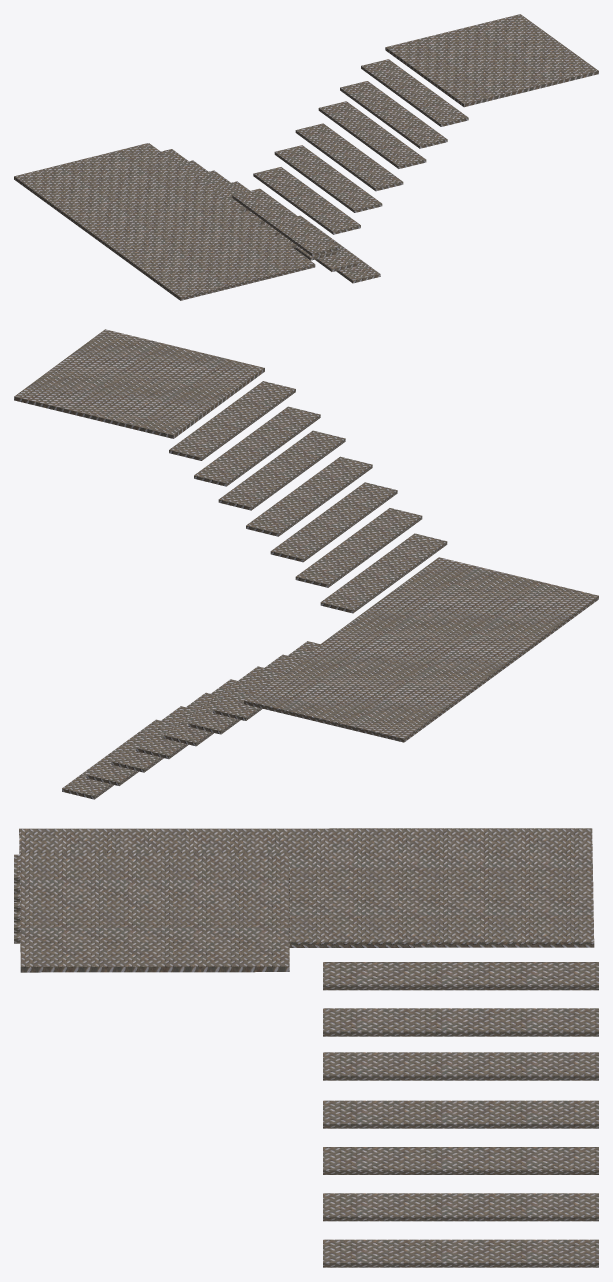
File: stairs02_lod.fbx
3 views of the same model, one above another, from view 1: azimuth 30°, elevation 25°; view 2: azimuth 150°, elevation 25°; view 3: azimuth 270°, elevation 25° (orthographic). The views are drawn at different scales.
Visible parts, largest first — view 1: Mesh Object; view 2: Mesh Object; view 3: Mesh Object.
Part boxes in pixels (box(x1,y1,x2,y2)): Mesh Object: box(14, 14, 598, 300); Mesh Object: box(14, 329, 598, 799); Mesh Object: box(14, 828, 598, 1267).
Bounding box in the file's own units: 4.13 × 2.24 × 2.89.
